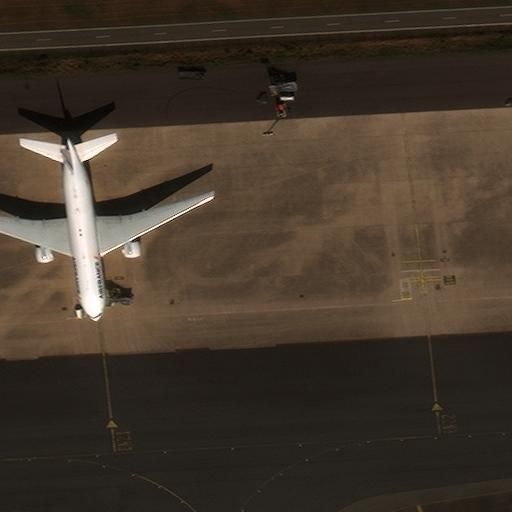Large Civil Transport: (0, 138, 214, 320)
